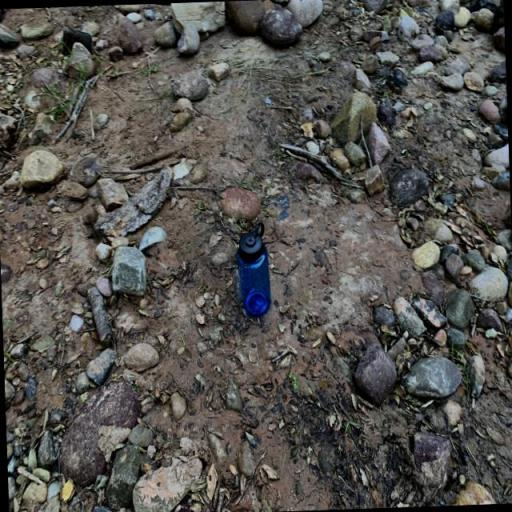bottle: (235, 221, 271, 316)
